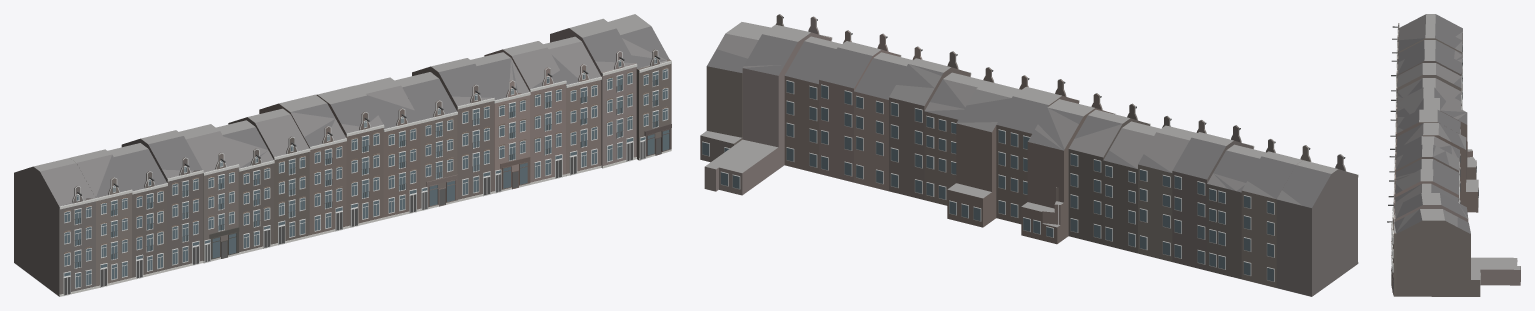
The model's file is chunk-face-hasebroek-2-46-r1.glb.
3 views of the same model, side by side, from view 1: azimuth 30°, elevation 25°; view 2: azimuth 150°, elevation 25°; view 3: azimuth 270°, elevation 25° (orthographic). The views are drawn at different scales.
Visible parts, largest first — view 1: face-hasebroek-2-46-r1; view 2: face-hasebroek-2-46-r1; view 3: face-hasebroek-2-46-r1.
Boxes of the visible parts, x1,y1,x2,y2 form: face-hasebroek-2-46-r1: (14, 14, 671, 296); face-hasebroek-2-46-r1: (700, 14, 1358, 296); face-hasebroek-2-46-r1: (1387, 14, 1520, 296).
Bounding box in the file's own units: 93.05 × 16.85 × 25.48.
